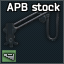APB detachable wire stock: (0, 0, 64, 64)
